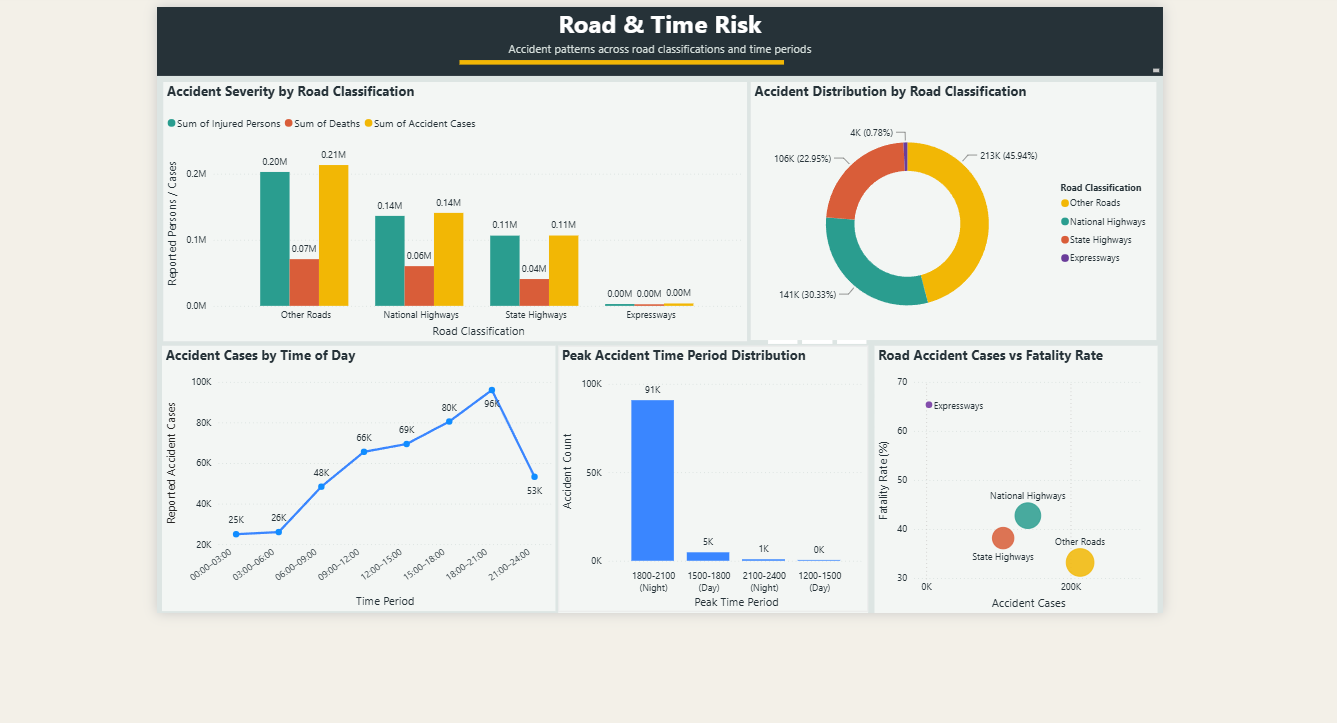

The dashboard page shown, as its layout file describes it:
{"tool":"powerbi","page":{"name":"Page 3","canvas":[1320,795],"ordinal":2},"visuals":[{"type":"clusteredColumnChart","title":"Accident Severity by Road Classification","fields":{"Y":["Sum(Road Severity Summary.Injured Persons)","Sum(Road Severity Summary.Deaths)","Sum(Road Severity Summary Final.Accident Cases)"],"Category":["Road Severity Summary Final.Road Classification"]},"box":[8.1,98.4,765.8,340.3],"z":0},{"type":"lineChart","title":"Accident Cases by Time of Day","fields":{"Category":["Time Period Summary.Time Period"],"Y":["Sum(Time Period Summary.Accident Cases)"]},"box":[6.5,443.5,516.1,348.4],"z":1000},{"type":"columnChart","title":"Peak Accident Time Period Distribution","fields":{"Category":["time_occurrence_cleaned.Peak Time Period"],"Y":["Sum(time_occurrence_cleaned.Peak Time Accidents)"]},"box":[526.8,443.5,406.5,350],"z":2000},{"type":"scatterChart","title":"Road Accident Cases vs Fatality Rate","fields":{"X":["Sum(Road Severity Summary Final.Accident Cases)"],"Y":["Avg(Road Severity Summary Final.Fatality Rate (%))"],"Series":["Road Severity Summary Final.Road Classification"],"Size":["Sum(Road Severity Summary Final.Deaths)"]},"box":[940.3,443.5,371,351.6],"z":3000},{"type":"donutChart","title":"Accident Distribution by Road Classification","fields":{"Category":["Road Severity Summary Final.Road Classification"],"Y":["Sum(Road Severity Summary Final.Accident Cases)"]},"box":[779,98.4,532.3,338.7],"z":4000},{"type":"textbox","title":"Road & Time Risk","box":[0,0,1319.4,90.3],"z":5000},{"type":"shape","box":[396.8,0,425.8,145.2],"z":6000}]}

Visuals, with their boxes on the page's 1320x795 design canvas (x1, y1, x2, y2). These are canvas units, not pixel positions in the 1337x723 screenshot, which may show the page scaled, cropped or inside an application window:
"Accident Severity by Road Classification" clusteredColumnChart: detection(8, 98, 774, 439)
"Accident Cases by Time of Day" lineChart: detection(6, 444, 523, 792)
"Peak Accident Time Period Distribution" columnChart: detection(527, 444, 933, 794)
"Road Accident Cases vs Fatality Rate" scatterChart: detection(940, 444, 1311, 795)
"Accident Distribution by Road Classification" donutChart: detection(779, 98, 1311, 437)
"Road & Time Risk" textbox: detection(0, 0, 1319, 90)
shape: detection(397, 0, 823, 145)
